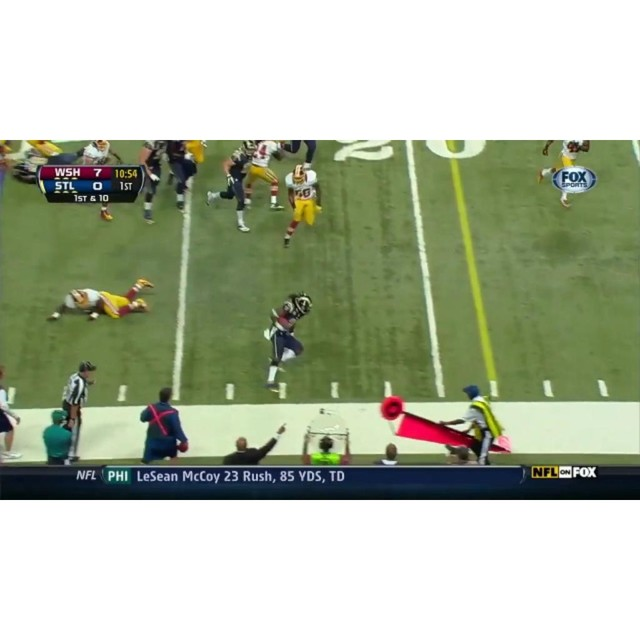american-football-player: (46, 280, 162, 326), (262, 293, 312, 393), (204, 142, 256, 233), (539, 140, 590, 211), (283, 164, 323, 248), (164, 141, 205, 215), (245, 141, 286, 212), (136, 142, 167, 224), (80, 140, 119, 165)
